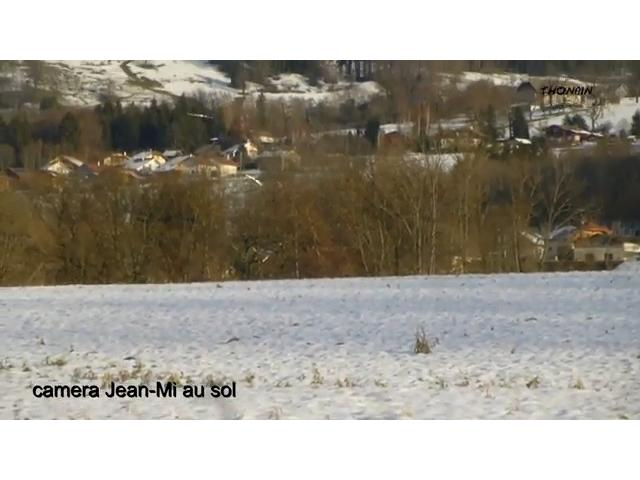Anti-Drone: (183, 106, 219, 125)
